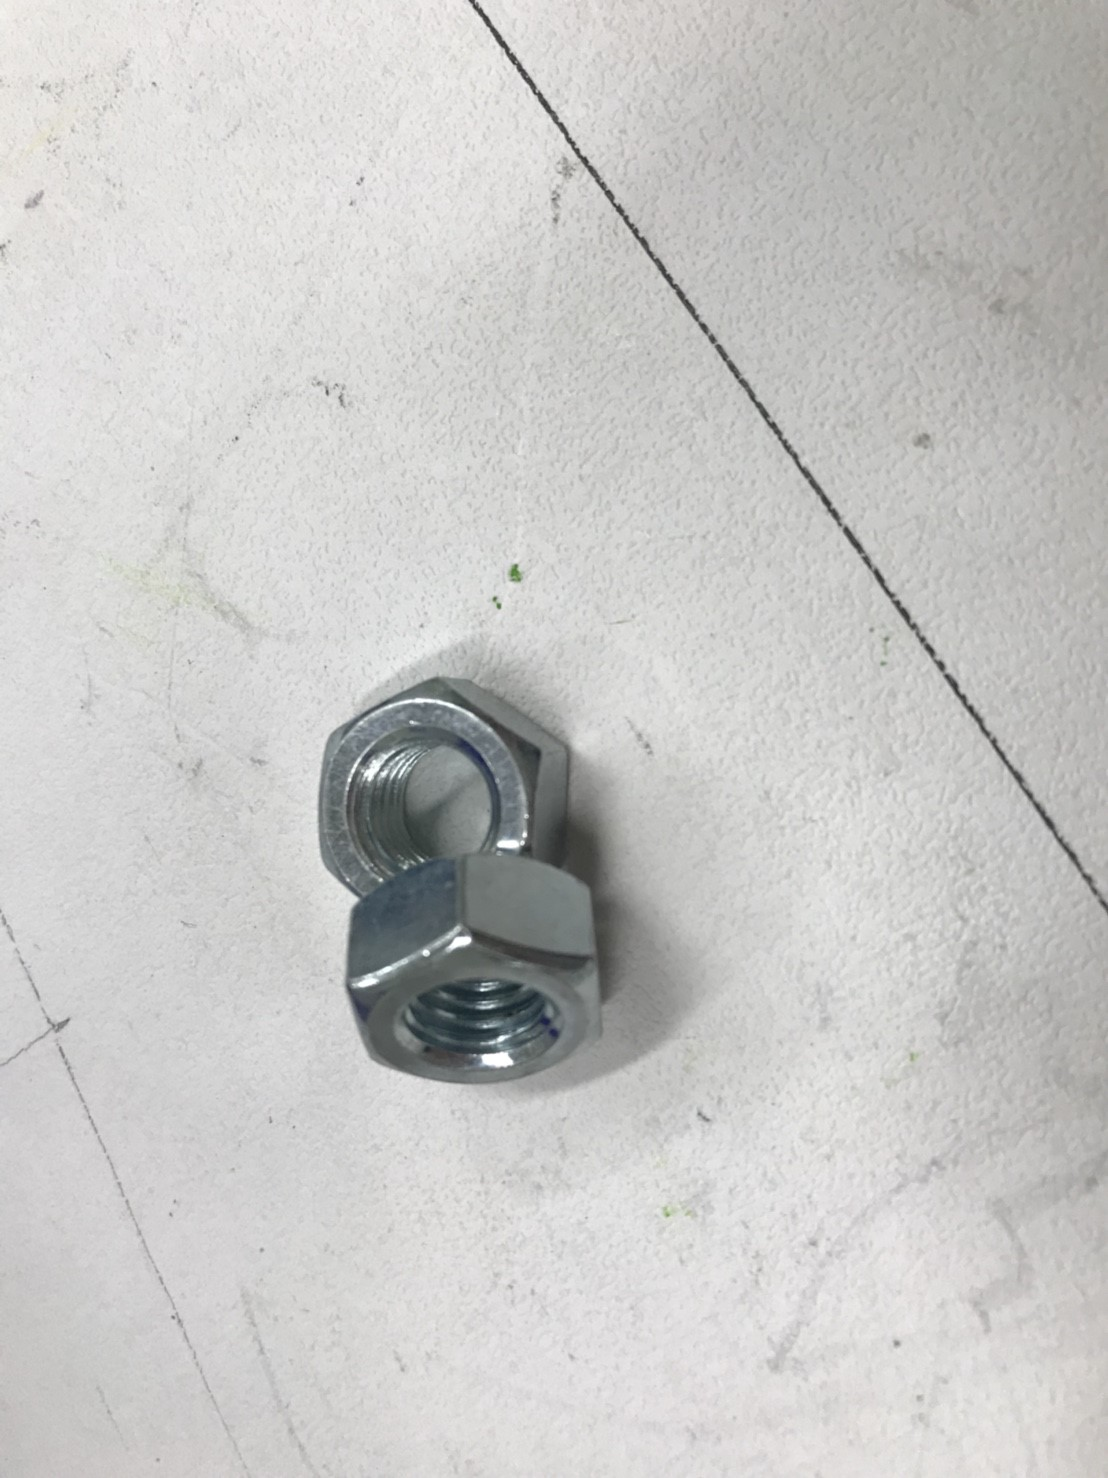nut: (347, 847, 630, 1102), (317, 665, 580, 925)
